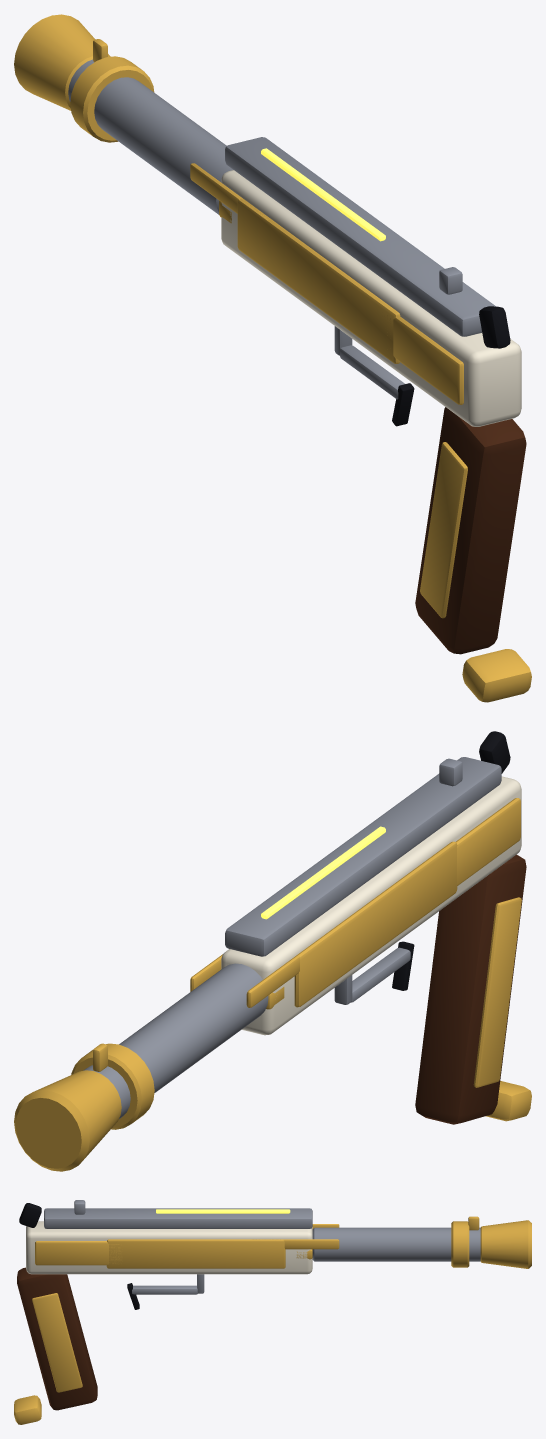
File: hawkmoon.glb
3 views of the same model, one above another, from view 1: azimuth 30°, elevation 25°; view 2: azimuth 150°, elevation 25°; view 3: azimuth 270°, elevation 25° (orthographic). The views are drawn at different scales.
Parts seen in each view (by area): view 1: gold, steel, walnut, ivory, dark, amber; view 2: gold, steel, walnut, ivory, dark, amber; view 3: gold, steel, ivory, walnut, amber, dark.
Boxes of the visible parts, x1=… form: gold: x1=14, y1=14, x2=531, y2=702; steel: x1=68, y1=59, x2=495, y2=399; walnut: x1=415, y1=407, x2=526, y2=654; ivory: x1=221, y1=170, x2=521, y2=426; dark: x1=392, y1=306, x2=510, y2=426; amber: x1=261, y1=148, x2=385, y2=241; gold: x1=14, y1=798, x2=531, y2=1171; steel: x1=83, y1=757, x2=501, y2=1118; walnut: x1=415, y1=854, x2=526, y2=1124; ivory: x1=221, y1=776, x2=521, y2=1035; dark: x1=392, y1=731, x2=510, y2=990; amber: x1=261, y1=826, x2=385, y2=919; gold: x1=14, y1=1216, x2=531, y2=1424; steel: x1=44, y1=1200, x2=480, y2=1294; ivory: x1=26, y1=1221, x2=312, y2=1274; walnut: x1=17, y1=1267, x2=97, y2=1410; amber: x1=156, y1=1209, x2=290, y2=1213; dark: x1=19, y1=1203, x2=139, y2=1309.
Size of the model in its own units: 0.0549 by 0.2689 by 0.5785.
